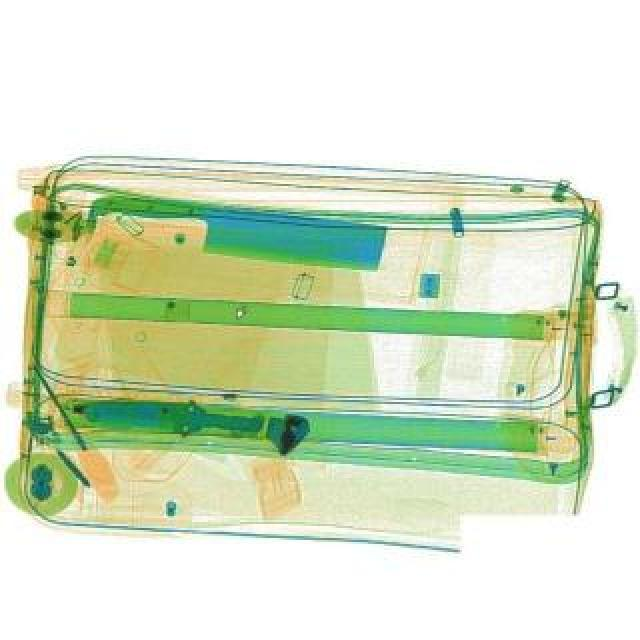knife: (84, 192, 386, 278), (66, 396, 258, 444)
